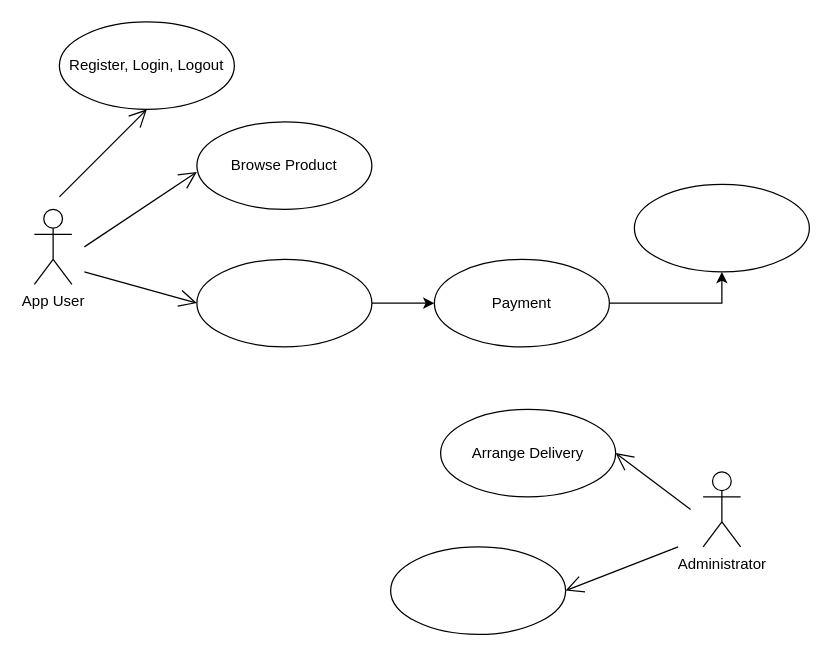
The diagram is 831 pixels wide and 656 high, and some of its shapes have lost their labels. Here are the shapes that lost their labels. From the top down, the centre of each, then its label:
At (x=721, y=227): "Track Delivery".
At (x=284, y=302): "Add to Cart and Order".
At (x=477, y=590): "Manage Products".
